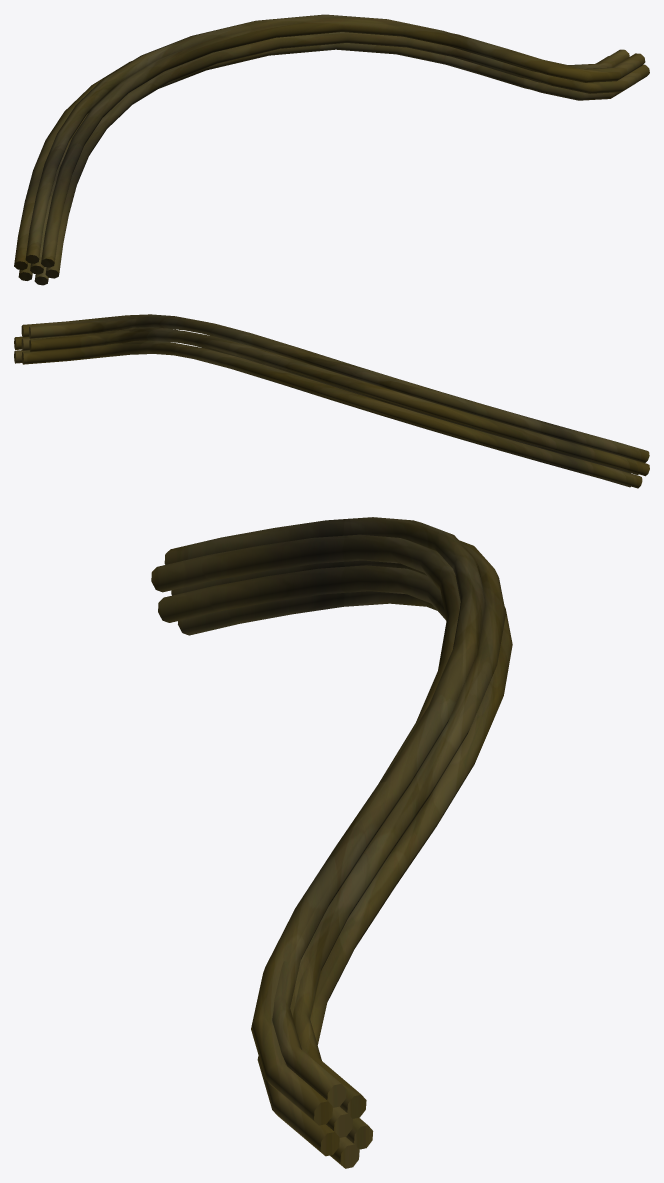
File: Wires.FBX
The picture shows the model from 3 angles, top to bottom: view 1: azimuth 30°, elevation 25°; view 2: azimuth 150°, elevation 25°; view 3: azimuth 270°, elevation 25°; orthographic projection. The views are drawn at different scales.
Parts seen in each view (by area): view 1: PRO_Wires; view 2: PRO_Wires; view 3: PRO_Wires.
Boxes of the visible parts, box(x1,y1,x2,y2) form: PRO_Wires: box(14, 14, 649, 285); PRO_Wires: box(14, 314, 649, 488); PRO_Wires: box(151, 517, 512, 1168).
Size of the model in its own units: 63.08 by 12.44 by 16.31.
Materials: 1 (1 with a texture image).
